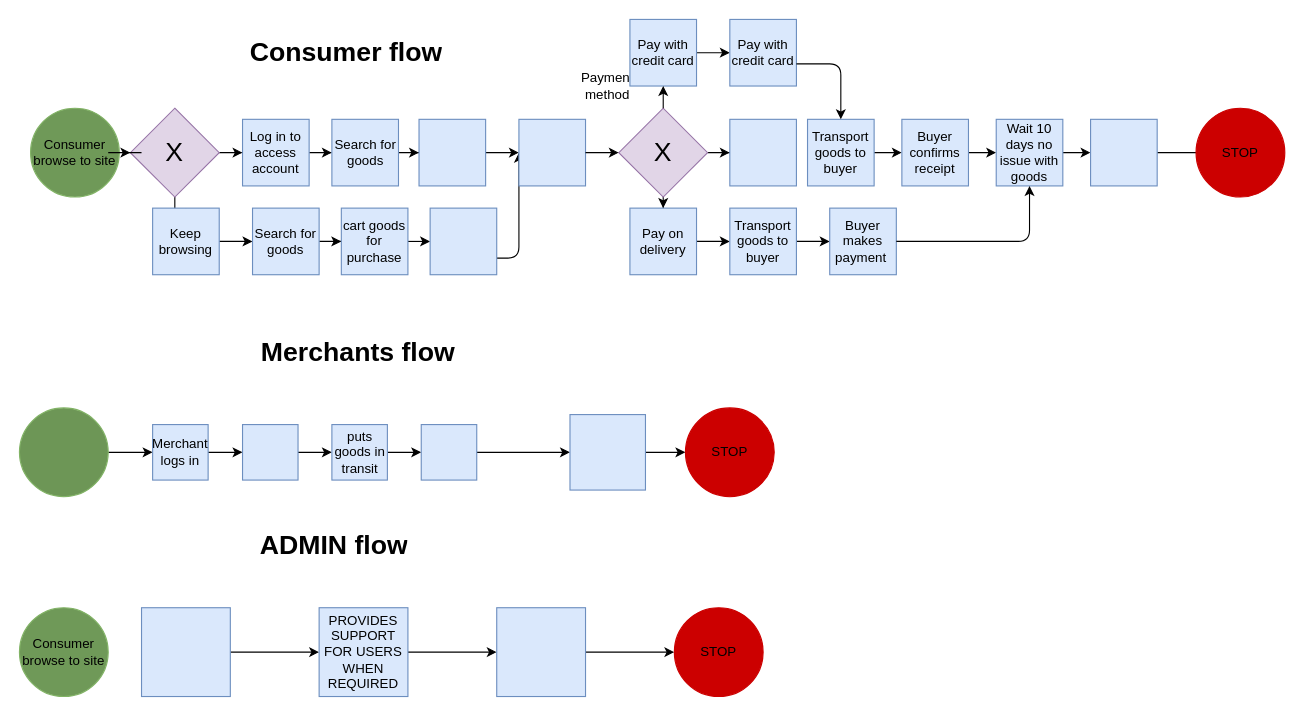
The diagram is 1304 pixels wide and 719 high, and some of its shapes have lost their labels. The box of each missing label's shape, as (x1, y1, x2, y2) in pixels:
cart goods to be purchased: (418, 118, 486, 186)
Checkout: (518, 118, 586, 186)
Create new account: (429, 207, 497, 275)
Merchant uploads prricelist: (241, 423, 298, 480)
Merchants brows to site: (18, 407, 108, 497)
MONITORS ALL PROCESSES: (140, 607, 230, 697)
monitors goods in transit: (420, 423, 477, 480)
Pay with inHouse Pay: (729, 118, 796, 186)
PROVIDES SUPPORT FOR VENDORS WHEN REQUIRED: (496, 607, 586, 697)
receives payment after 10th day of delivery: (569, 413, 645, 490)
Remit payment to vendor: (1089, 118, 1157, 186)
